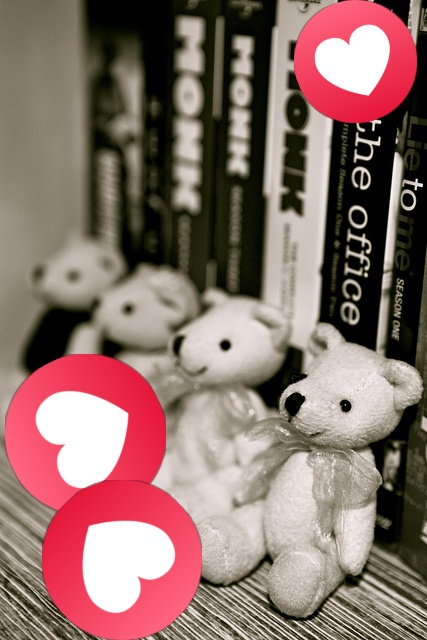love: (5, 354, 166, 515), (42, 480, 202, 640), (294, 0, 417, 123)
